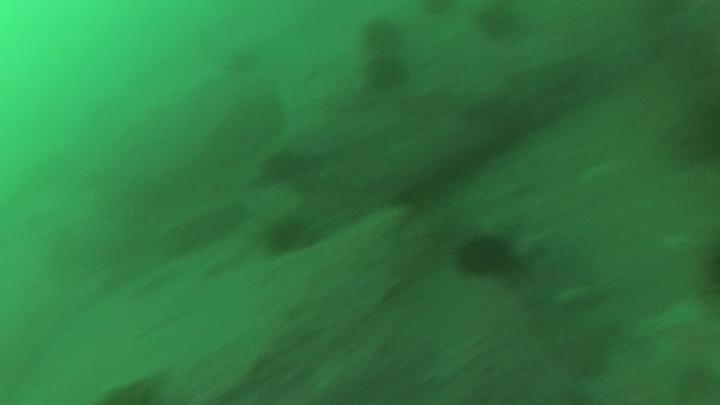echinus: (454, 232, 517, 280), (262, 212, 310, 258), (473, 4, 524, 44), (363, 53, 409, 94), (259, 147, 307, 185), (359, 15, 406, 53), (223, 44, 265, 80)
starfish: (633, 292, 720, 396)
